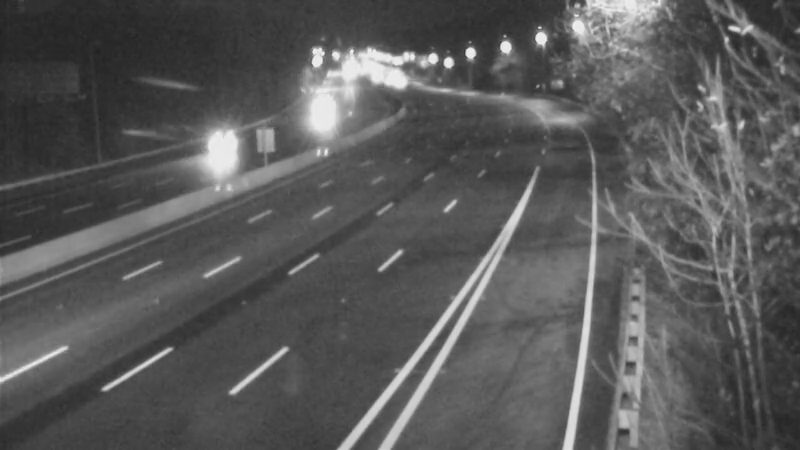vehicle: (349, 56, 399, 106), (372, 56, 422, 106), (199, 125, 249, 175), (299, 83, 349, 133)
